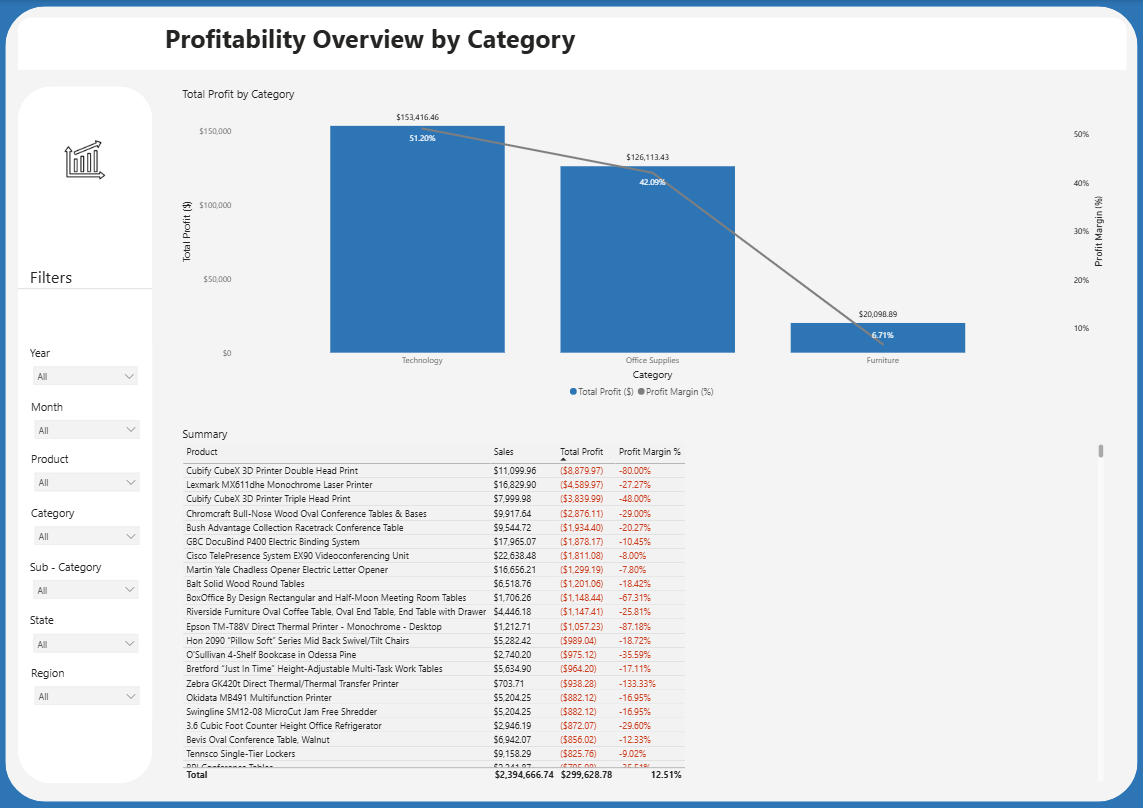

The page's visual inventory and layout, read from the dashboard file:
{"tool":"powerbi","page":{"name":"Profitability","canvas":[1700,1200],"ordinal":1},"visuals":[{"type":"textbox","box":[28.2,260,123.3,48.9],"z":0,"group":"g1"},{"type":"tableEx","title":"Summary ","fields":{"Values":["dim_product.product_name","Medidas_DAX.Total Sales","Medidas_DAX.Total Profit","Medidas_DAX.Profit Margin %"]},"box":[242,616,1404,550],"z":0},{"type":"textbox","box":[241.2,26.2,1186.2,83.8],"z":1000},{"type":"shape","box":[16,270,200,58.9],"z":1000,"group":"g1"},{"type":"lineStackedColumnComboChart","title":"Total Profit by Category","fields":{"Category":["dim_product.category"],"Y":["Medidas_DAX.Total Profit"],"Y2":["Medidas_DAX.%Profit"]},"box":[242,112,1404,464],"z":2000},{"type":"shape","box":[18,26,200,1140],"z":3000},{"type":"group","id":"g1","title":"Group 1","box":[16,260,200,70],"z":4000},{"type":"group","id":"g2","title":"Group 2","box":[28.9,377,176.7,555],"z":5000},{"type":"image","box":[64,62,104,92],"z":6000},{"type":"slicer","title":"Category","fields":{"Values":["dim_product.category"]},"box":[30,615.3,175.6,80],"z":6000,"group":"g2"},{"type":"slicer","title":"Month","fields":{"Values":["dim_date.date.Variación.Jerarquía de fechas.Mes"]},"box":[30,456.4,175.6,80],"z":7000,"group":"g2"},{"type":"slicer","title":"State","fields":{"Values":["dim_region.state"]},"box":[28.9,773.1,175.6,80],"z":8000,"group":"g2"},{"type":"slicer","title":"Region","fields":{"Values":["dim_region.region"]},"box":[30,852,175.6,80],"z":9000,"group":"g2"},{"type":"slicer","title":"Sub - Category","fields":{"Values":["dim_product.sub_category"]},"box":[28.9,694.2,175.6,80],"z":10000,"group":"g2"},{"type":"slicer","title":"Product","fields":{"Values":["dim_product.product_name"]},"box":[30,535.3,175.6,80],"z":11000,"group":"g2"},{"type":"slicer","title":"Year","fields":{"Values":["dim_date.year"]},"box":[29,377,175,80],"z":12000,"group":"g2"}]}

Visuals, with their boxes in screenshot pixels (x1, y1, x2, y2), scaled from the page's 1700x1200 canvas onto the 1143x808 screenshot:
textbox: <box>19,175,102,208</box>
"Summary " tableEx: <box>163,415,1107,785</box>
textbox: <box>162,18,960,74</box>
shape: <box>11,182,145,221</box>
"Total Profit by Category" lineStackedColumnComboChart: <box>163,75,1107,388</box>
shape: <box>12,18,147,785</box>
"Group 1" group: <box>11,175,145,222</box>
"Group 2" group: <box>19,254,138,628</box>
image: <box>43,42,113,104</box>
"Category" slicer: <box>20,414,138,468</box>
"Month" slicer: <box>20,307,138,361</box>
"State" slicer: <box>19,521,137,574</box>
"Region" slicer: <box>20,574,138,628</box>
"Sub - Category" slicer: <box>19,467,137,521</box>
"Product" slicer: <box>20,360,138,414</box>
"Year" slicer: <box>19,254,137,308</box>
